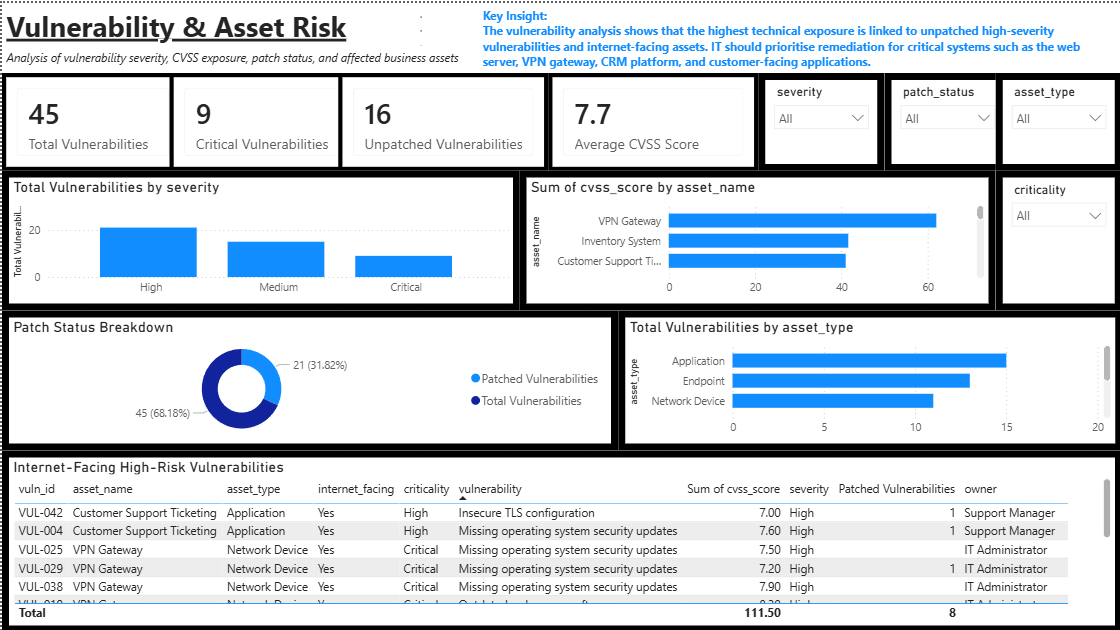

The page's visual inventory and layout, read from the dashboard file:
{"tool":"powerbi","page":{"name":"Vulnerability & Asset Risk","canvas":[1280,720],"ordinal":3},"visuals":[{"type":"textbox","box":[0,0,448,64],"z":0},{"type":"textbox","box":[0,48,640,32],"z":1000},{"type":"cardVisual","fields":{"Data":["Vulnerabilities.Total Vulnerabilities"]},"box":[0,80,208,112],"z":2000},{"type":"cardVisual","fields":{"Data":["Vulnerabilities.Critical Vulnerabilities"]},"box":[192,80,256,112],"z":3000},{"type":"cardVisual","fields":{"Data":["Vulnerabilities.Unpatched Vulnerabilities"]},"box":[384,80,240,112],"z":4000},{"type":"cardVisual","fields":{"Data":["Vulnerabilities.Average CVSS Score"]},"box":[624,80,240,112],"z":5000},{"type":"textbox","box":[544,0,736,80],"z":6000},{"type":"slicer","fields":{"Values":["Vulnerabilities.patch_status"]},"box":[1008,80,144,112],"z":7000},{"type":"slicer","fields":{"Values":["Vulnerabilities.severity"]},"box":[864,80,144,112],"z":8000},{"type":"slicer","fields":{"Values":["Assets.asset_type"]},"box":[1136,80,144,112],"z":9000},{"type":"clusteredColumnChart","fields":{"Category":["Vulnerabilities.severity"],"Y":["Vulnerabilities.Total Vulnerabilities"]},"box":[0,192,592,160],"z":10000},{"type":"donutChart","title":"Patch Status Breakdown","fields":{"Y":["Vulnerabilities.Patched Vulnerabilities","Vulnerabilities.Total Vulnerabilities"]},"box":[0,352,704,160],"z":11000},{"type":"clusteredBarChart","fields":{"Category":["Vulnerabilities.asset_name"],"Y":["Sum(Vulnerabilities.cvss_score)"]},"box":[592,192,544,160],"z":12000},{"type":"clusteredBarChart","fields":{"Category":["Assets.asset_type"],"Y":["Vulnerabilities.Total Vulnerabilities"]},"box":[704,352,576,160],"z":13000},{"type":"tableEx","title":"Internet-Facing High-Risk Vulnerabilities","fields":{"Values":["Vulnerabilities.vuln_id","Vulnerabilities.asset_name","Assets.asset_type","Assets.internet_facing","Assets.criticality","Vulnerabilities.vulnerability","Sum(Vulnerabilities.cvss_score)","Vulnerabilities.severity","Vulnerabilities.Patched Vulnerabilities","Vulnerabilities.owner"]},"box":[0,512,1280,208],"z":14000},{"type":"slicer","title":"Internet-Facing High-Risk Vulnerabilities","fields":{"Values":["Assets.criticality"]},"box":[1136,192,144,160],"z":15000}]}

Visuals, with their boxes in screenshot pixels (x1, y1, x2, y2), scaled from the page's 1280x720 canvas onto the 1120x630 screenshot:
textbox: 0, 0, 392, 56
textbox: 0, 42, 560, 70
cardVisual - Vulnerabilities.Total Vulnerabilities: 0, 70, 182, 168
cardVisual - Vulnerabilities.Critical Vulnerabilities: 168, 70, 392, 168
cardVisual - Vulnerabilities.Unpatched Vulnerabilities: 336, 70, 546, 168
cardVisual - Vulnerabilities.Average CVSS Score: 546, 70, 756, 168
textbox: 476, 0, 1119, 70
slicer - Vulnerabilities.patch_status: 882, 70, 1008, 168
slicer - Vulnerabilities.severity: 756, 70, 882, 168
slicer - Assets.asset_type: 994, 70, 1119, 168
clusteredColumnChart - Vulnerabilities.severity x Vulnerabilities.Total Vulnerabilities: 0, 168, 518, 308
"Patch Status Breakdown" donutChart: 0, 308, 616, 448
clusteredBarChart - Vulnerabilities.asset_name x Sum(Vulnerabilities.cvss_score): 518, 168, 994, 308
clusteredBarChart - Assets.asset_type x Vulnerabilities.Total Vulnerabilities: 616, 308, 1119, 448
"Internet-Facing High-Risk Vulnerabilities" tableEx: 0, 448, 1119, 629
"Internet-Facing High-Risk Vulnerabilities" slicer: 994, 168, 1119, 308
